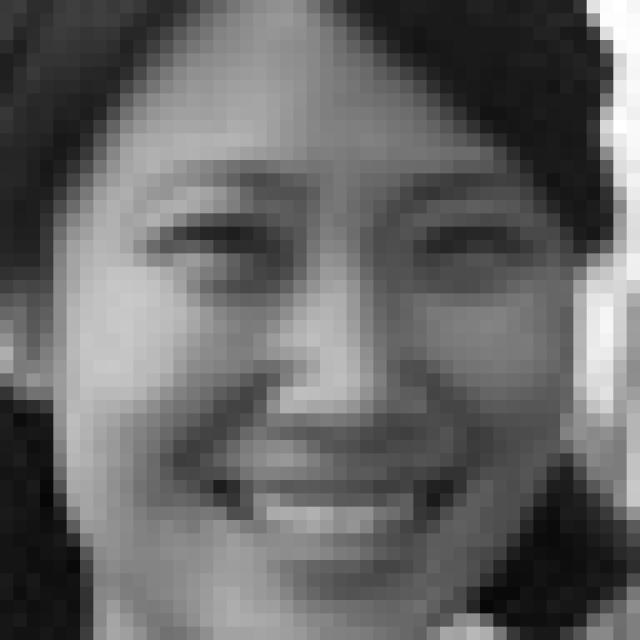happy: (116, 158, 547, 601)
